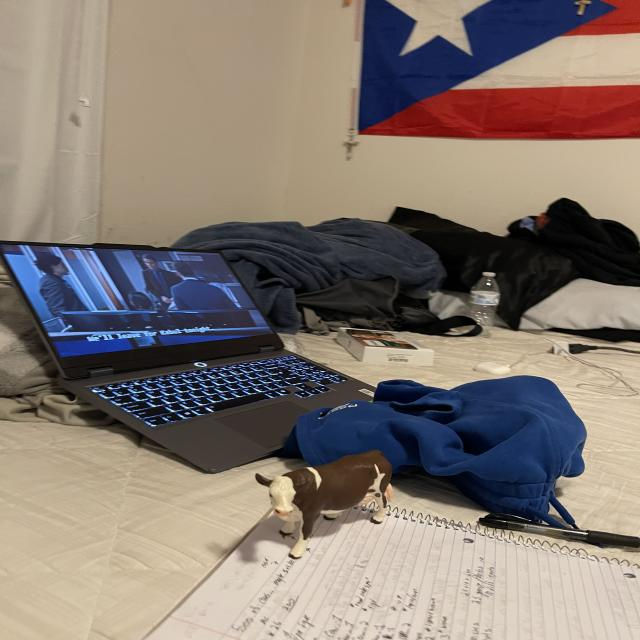cow: (254, 423, 410, 562)
